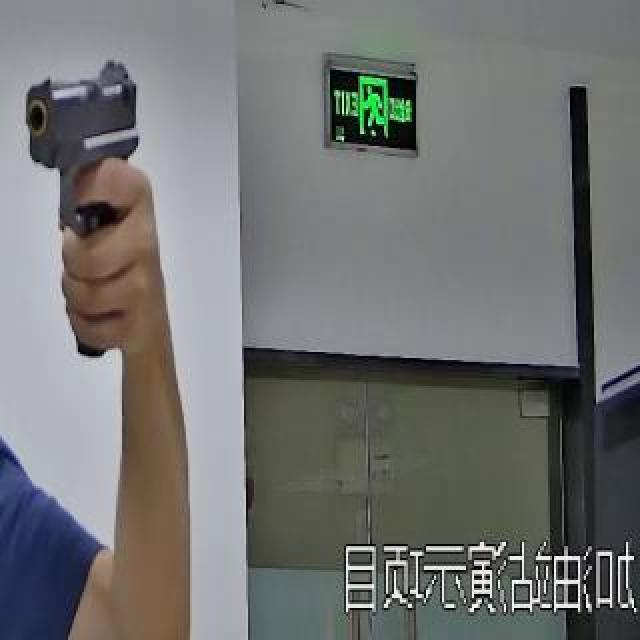Guns: (1, 29, 169, 394)
